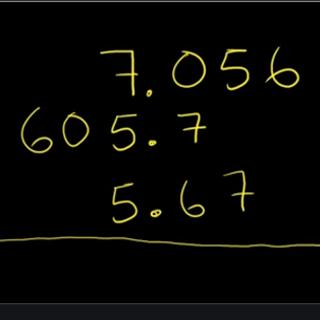.: (140, 204, 170, 223), (144, 135, 160, 157), (143, 88, 157, 99)
0: (166, 36, 209, 92), (63, 108, 89, 156)
5: (217, 37, 253, 93), (102, 109, 142, 158), (106, 179, 140, 229)
6: (260, 39, 306, 96), (13, 99, 57, 158), (174, 171, 207, 221)
7: (95, 45, 142, 99), (216, 162, 258, 218), (172, 106, 214, 151)
